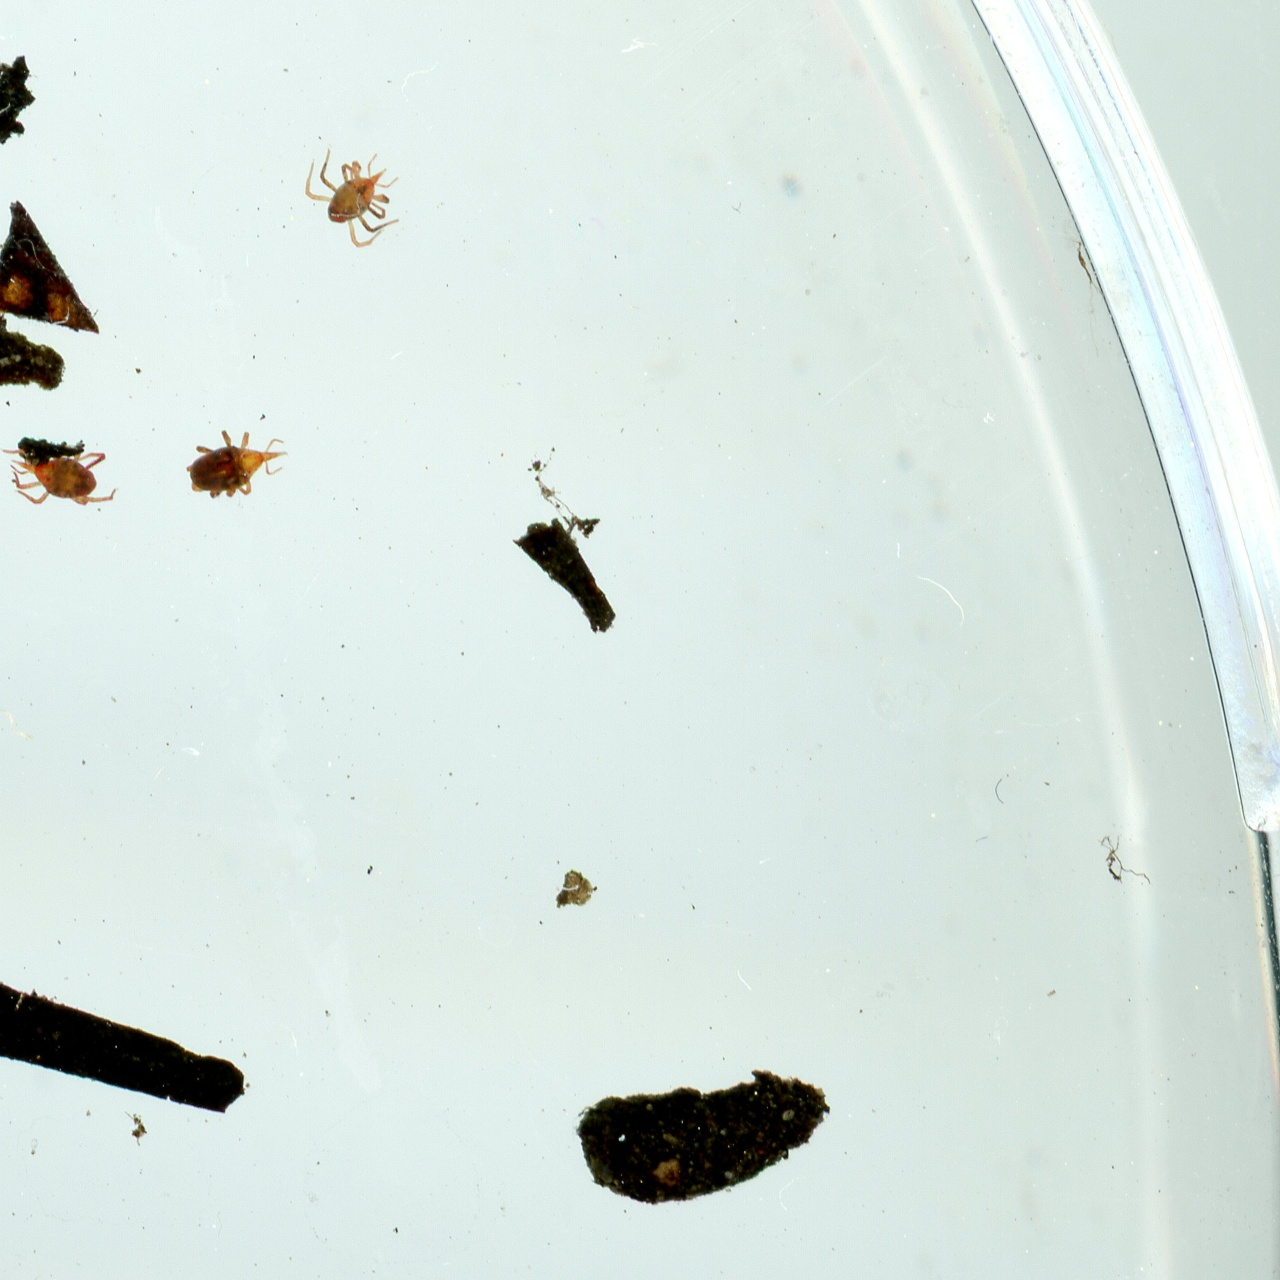arthropod: (298, 141, 406, 253), (0, 433, 118, 509), (175, 433, 293, 501)
